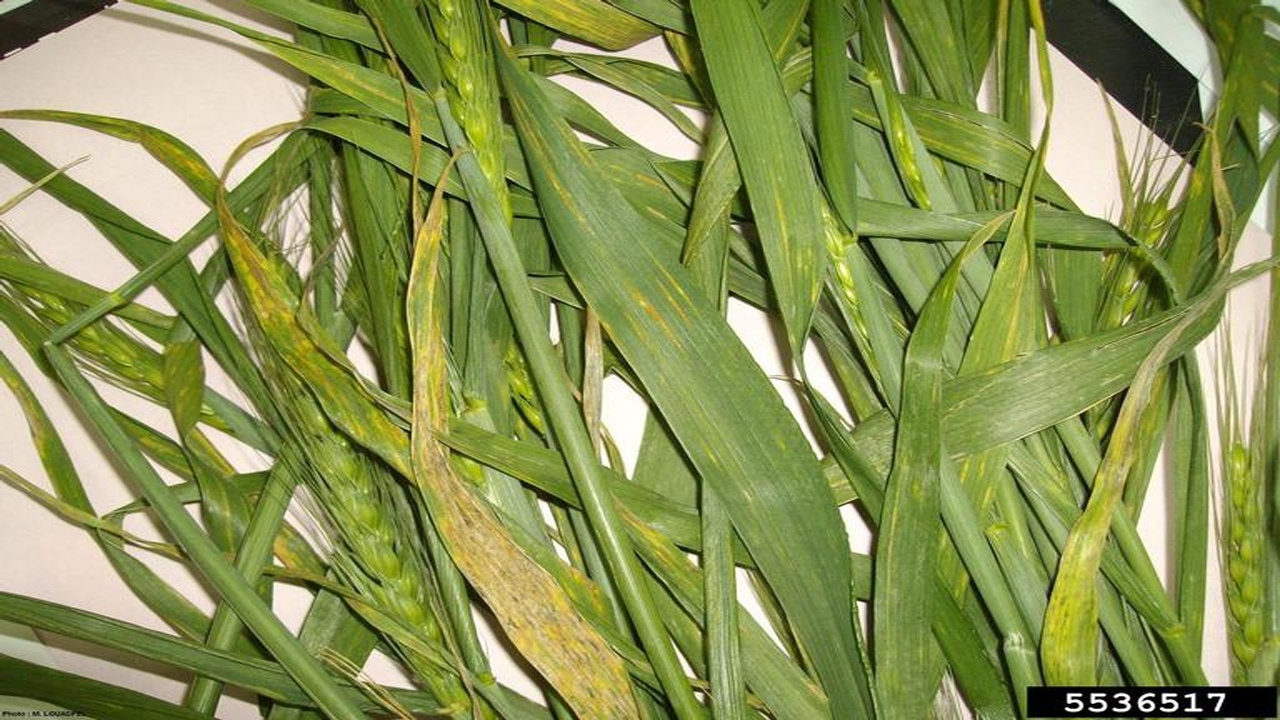stripe_rust: (486, 4, 876, 716), (401, 153, 644, 720), (1046, 116, 1238, 686), (874, 213, 1010, 720)
